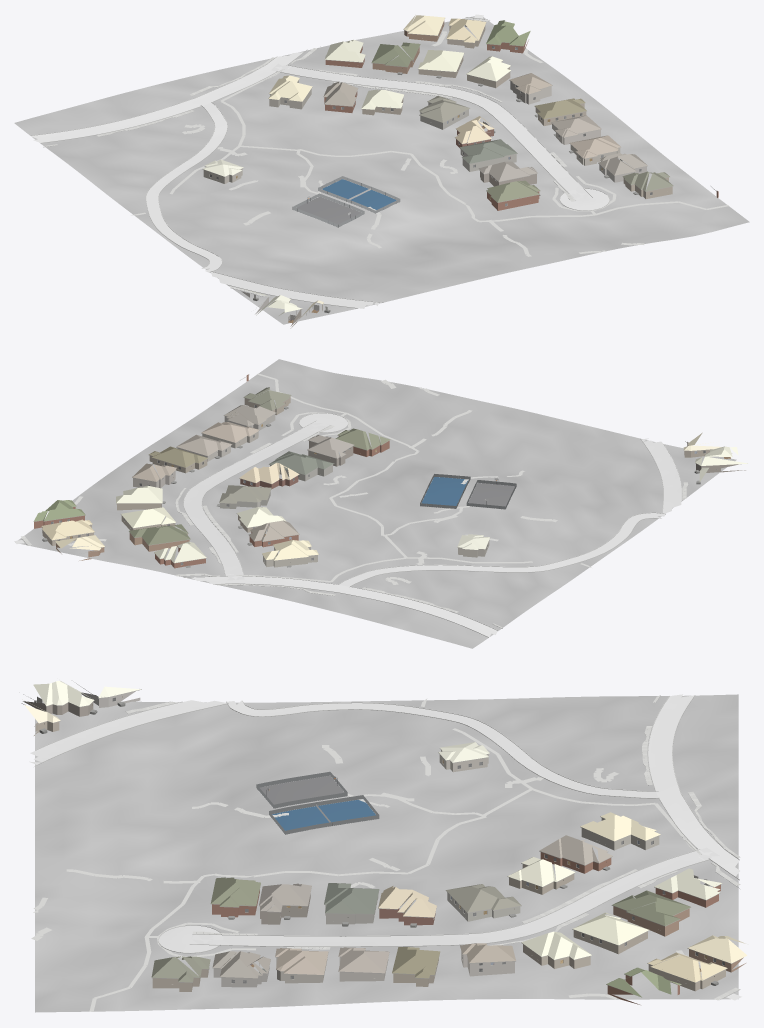
3 renders of one model, top to bottom at view 1: azimuth 30°, elevation 25°; view 2: azimuth 150°, elevation 25°; view 3: azimuth 270°, elevation 25°, orthographic. The views are drawn at different scales.
Parts seen in each view (by area): view 1: ground, roof, concrete, walk, detail, wall, wall_stucco, curb, chain; view 2: ground, roof, concrete, walk, wall, detail, wall_stucco, curb, chain; view 3: ground, roof, concrete, walk, wall, detail, wall_stucco, curb, chain, wall_stone.
Part boxes in pixels (<box>): ground: <box>14,16,749,324</box>; roof: <box>203,15,673,318</box>; concrete: <box>31,14,609,308</box>; walk: <box>43,17,728,296</box>; detail: <box>202,22,716,317</box>; wall: <box>289,21,718,328</box>; wall_stucco: <box>203,26,620,183</box>; curb: <box>31,17,609,308</box>; chain: <box>293,176,400,227</box>; ground: <box>18,359,736,648</box>; roof: <box>33,387,748,562</box>; concrete: <box>14,413,681,637</box>; walk: <box>21,373,688,628</box>; wall: <box>34,374,745,568</box>; detail: <box>34,374,741,567</box>; wall_stucco: <box>42,432,489,567</box>; curb: <box>21,413,681,637</box>; chain: <box>420,474,516,509</box>; ground: <box>35,694,738,1012</box>; roof: <box>22,680,746,997</box>; concrete: <box>29,694,741,1000</box>; walk: <box>31,695,740,1011</box>; wall: <box>21,700,745,1004</box>; detail: <box>23,683,743,993</box>; wall_stucco: <box>276,750,725,991</box>; curb: <box>34,695,740,999</box>; chain: <box>256,771,379,834</box>; wall_stone: <box>81,691,269,987</box>.
Bounding box in the file's own units: 269 × 18.68 × 261.
